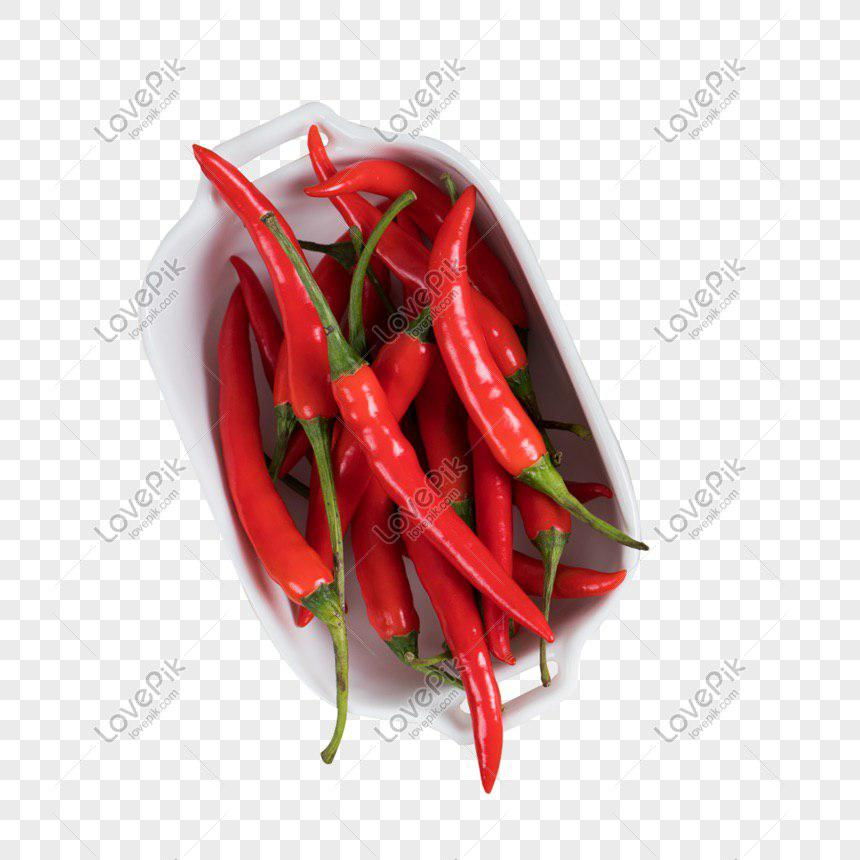lada merah: (338, 356, 542, 639), (193, 282, 350, 641), (313, 143, 529, 370), (183, 130, 337, 439), (418, 187, 572, 495), (402, 508, 518, 794)
